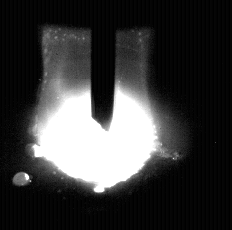arame: (92, 0, 116, 131)
poca: (32, 0, 161, 230)
